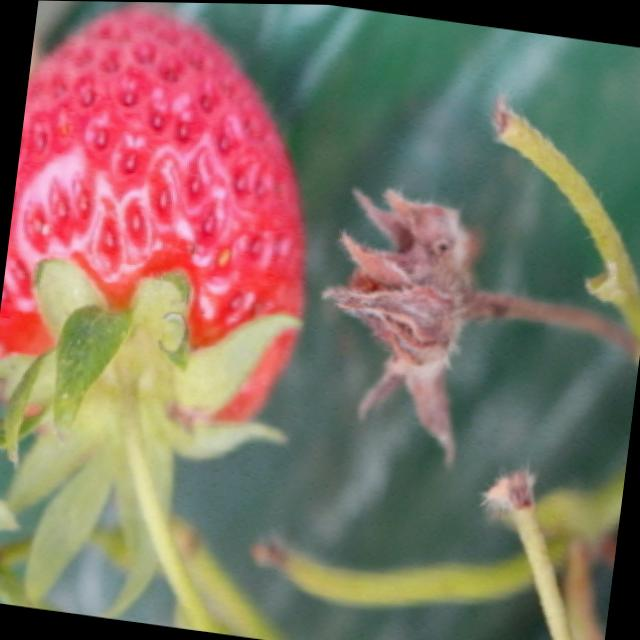Gray Mold: (318, 187, 509, 466)
